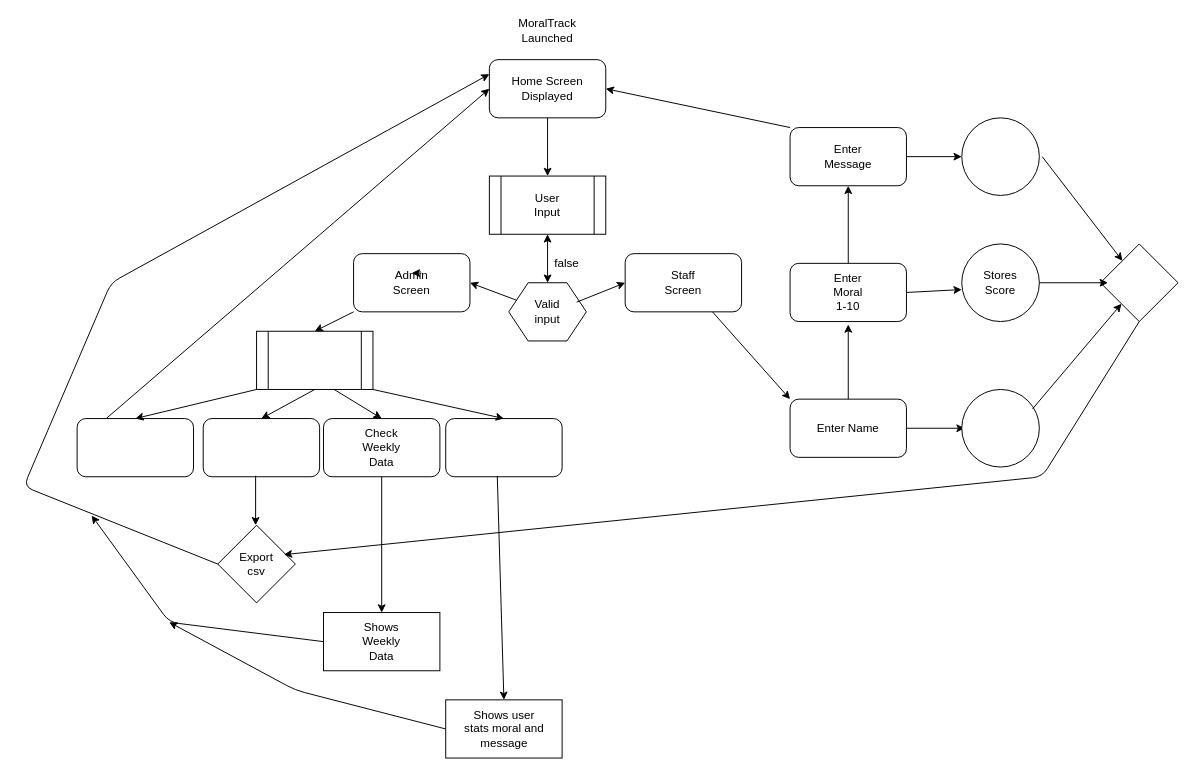
Some shapes in this 1195 by 775 pixel diagram are drawn without their labels. The centre of each missing label's shape, as x and y in pixels:
Admin Choice: (314,359)
Check Stats: (503,447)
Download data: (261,447)
Exit: (135,447)
Store data For csv: (1138,282)
Stores message: (1000,156)
Stores name: (1000,427)
